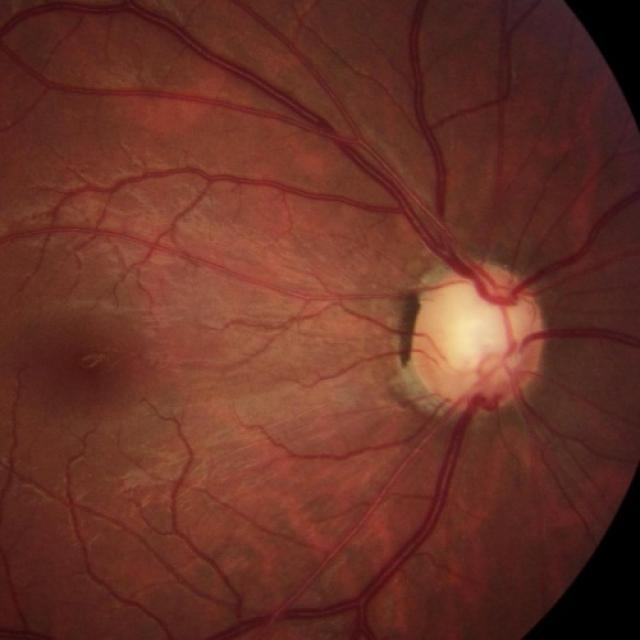OC: (437, 289, 518, 383)
OD: (411, 265, 547, 413)
